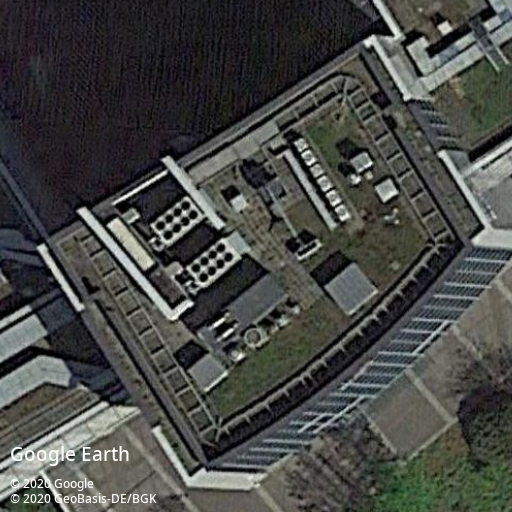Chiller: (187, 237, 242, 288), (151, 196, 203, 247), (325, 189, 343, 207), (334, 203, 352, 221), (316, 175, 334, 192), (301, 149, 318, 165), (293, 137, 310, 152), (309, 164, 325, 177)
